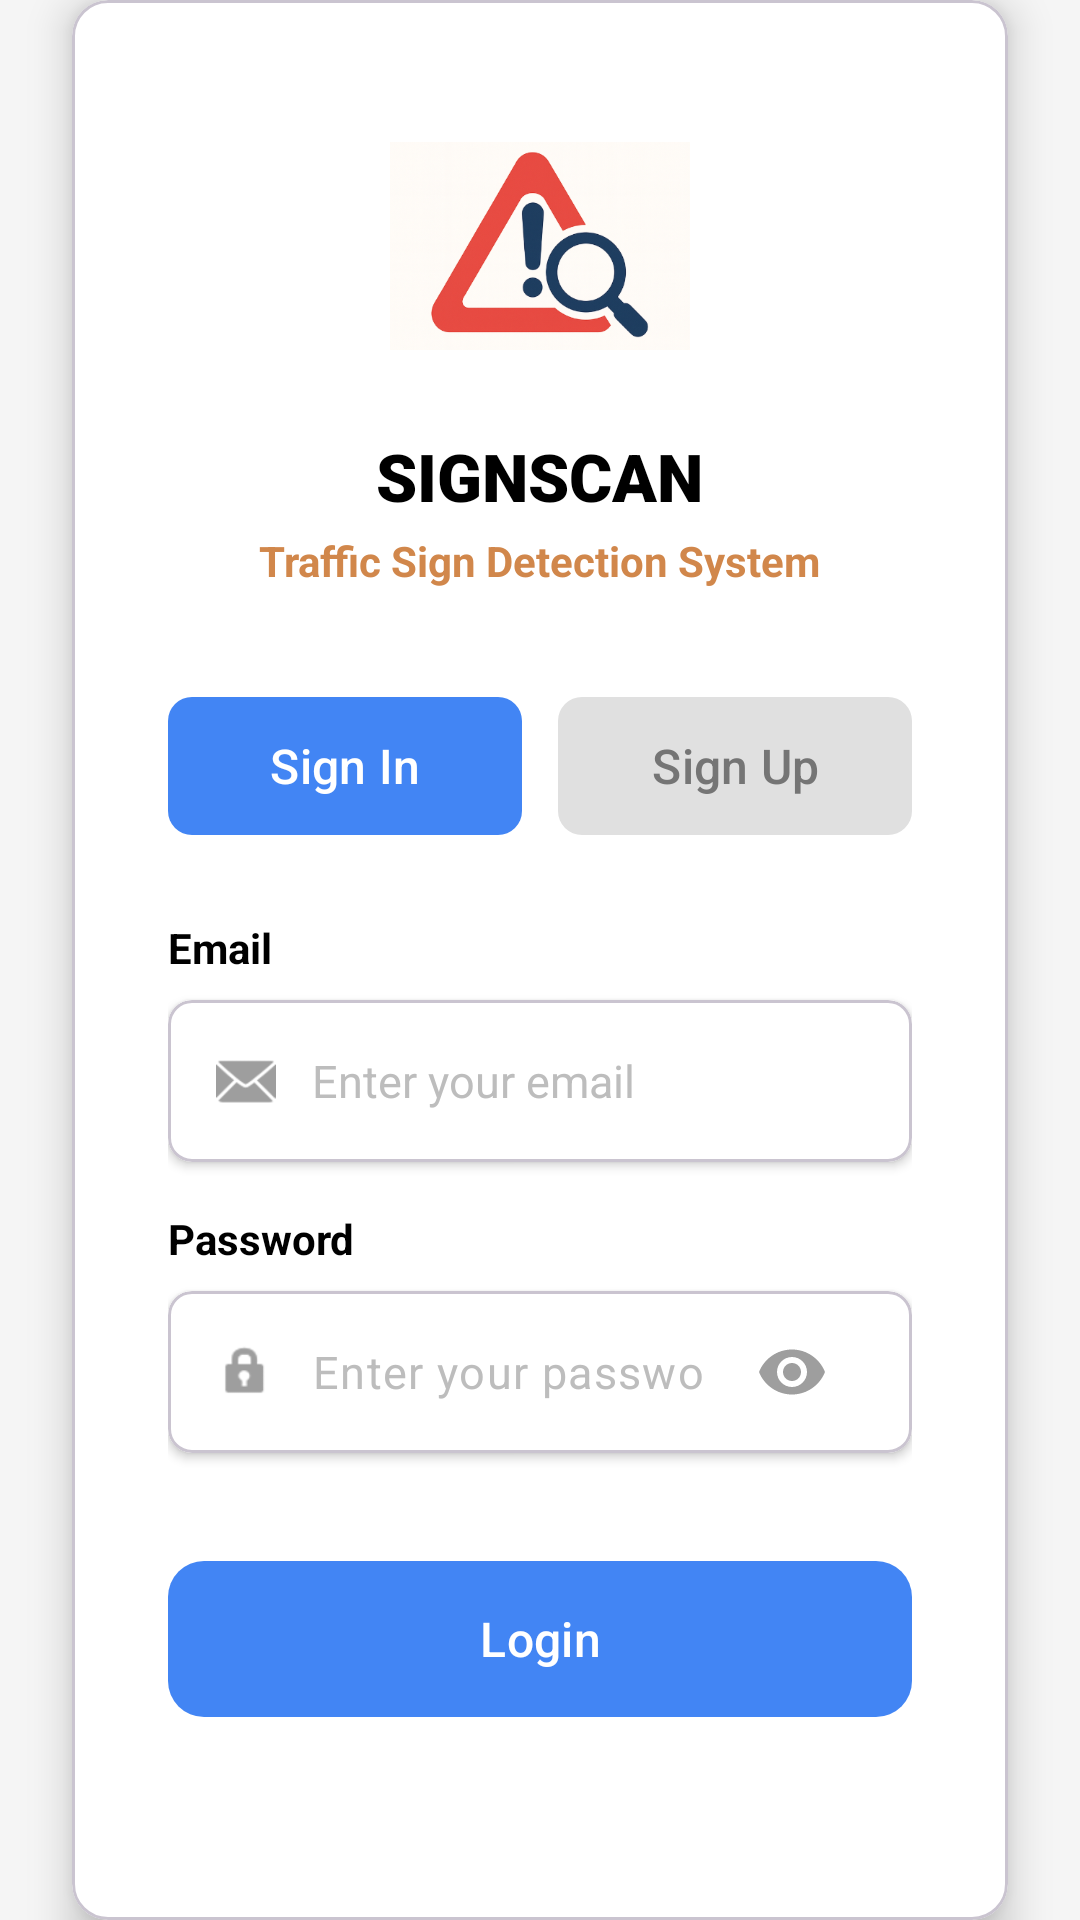

Screen size 1080px×1920px. Icon name, then its center in pixels as point (x, y):
lock idle: point (244, 1370)
